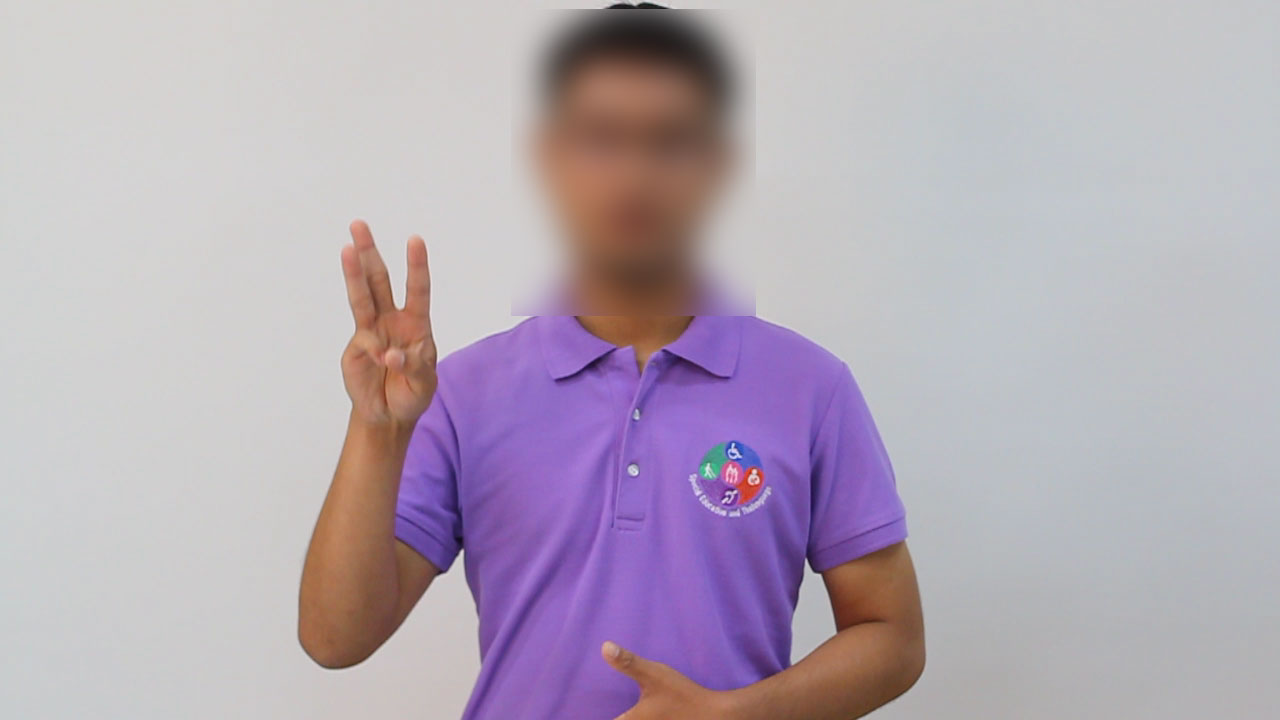wor: (330, 212, 445, 444)
